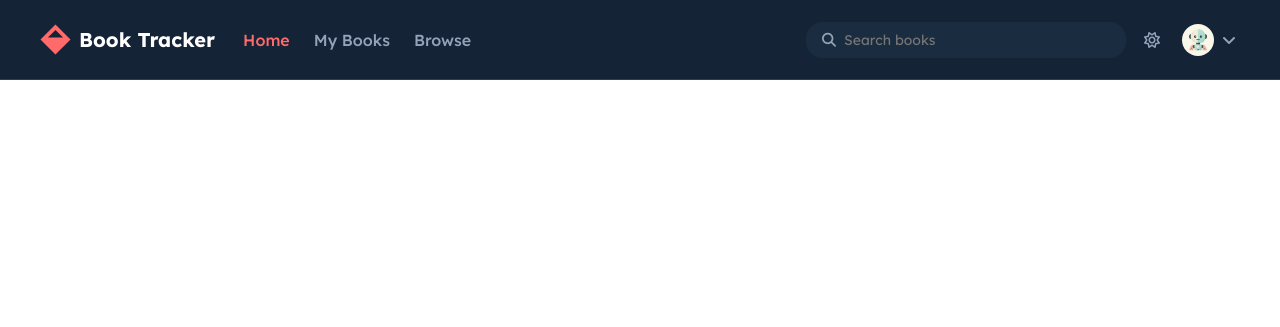
Test: Navbar › shows the signed-in user's first name in the account menu
Step 1. Click the button named "Open account menu" → (1209, 40), box [1178,18,1240,62]
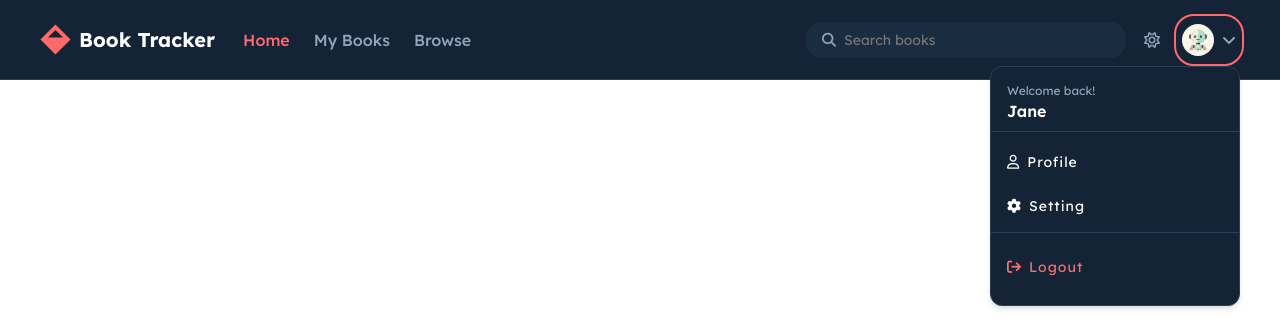
Now the text "Welcome back!" is shown, box [1007,82,1095,98]
Now the text "Jane" is shown, box [1007,100,1046,120]
